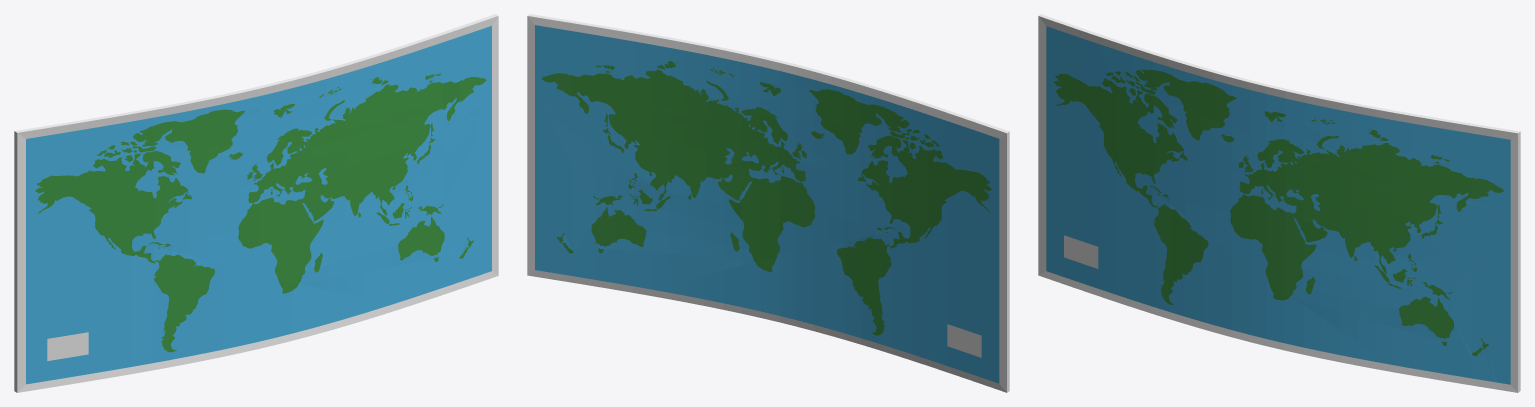
File: world_map.gltf
3 views of the same model, side by side, from view 1: azimuth 30°, elevation 25°; view 2: azimuth 150°, elevation 25°; view 3: azimuth 330°, elevation 25° (orthographic).
Parts seen in each view (by area): view 1: Plane.223; view 2: Plane.223; view 3: Plane.223.
Boxes of the visible parts, box(x1,y1,x2,y2) form: Plane.223: box(14, 14, 498, 392); Plane.223: box(527, 14, 1009, 392); Plane.223: box(1038, 14, 1520, 392).
Size of the model in its own units: 2.2 by 1.14 by 0.1429.
1 material, 1 textured.
